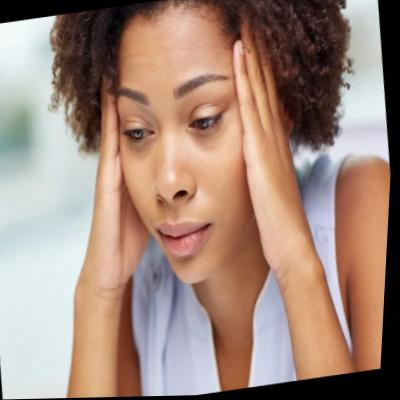sad: (97, 6, 276, 297)
